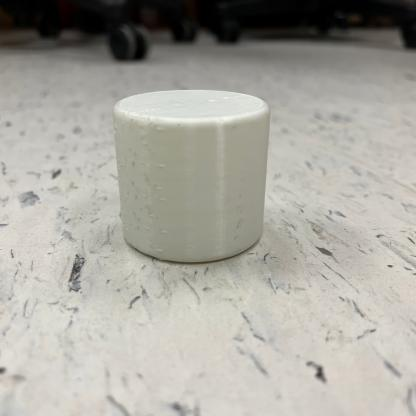white cylinder: (106, 85, 274, 266)
